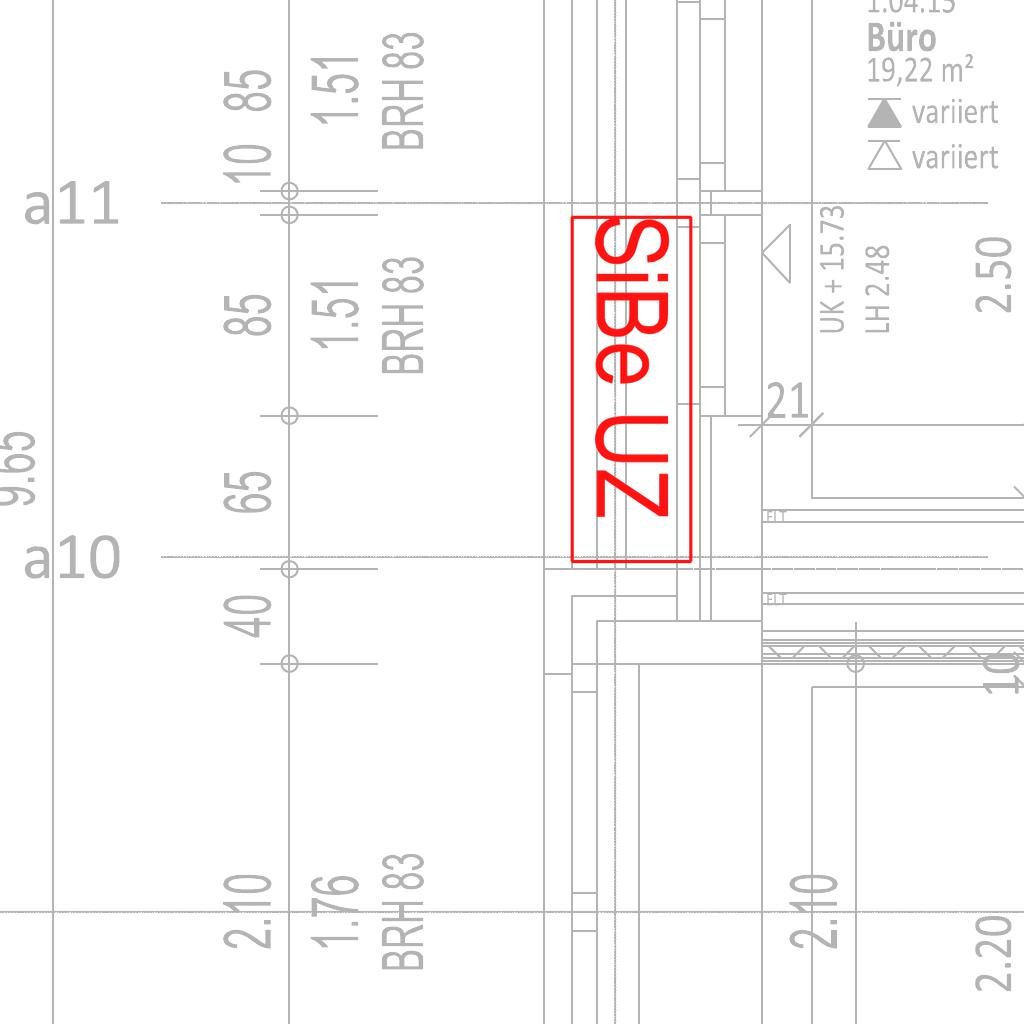Zentrale_Sicherheitsbeleuchtung: (566, 212, 696, 569)
